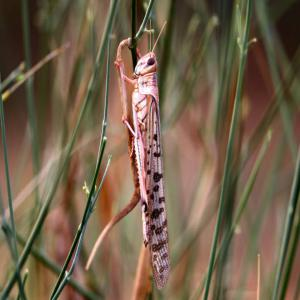locust: (119, 4, 188, 299)
